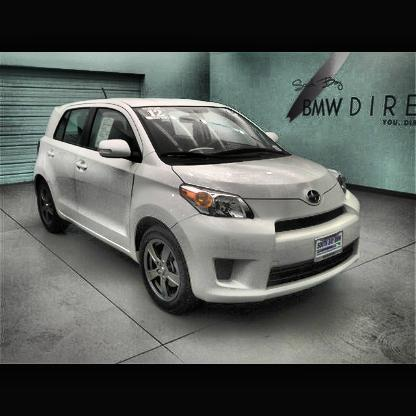Scion xD Hatchback 2012: (36, 99, 367, 317)
